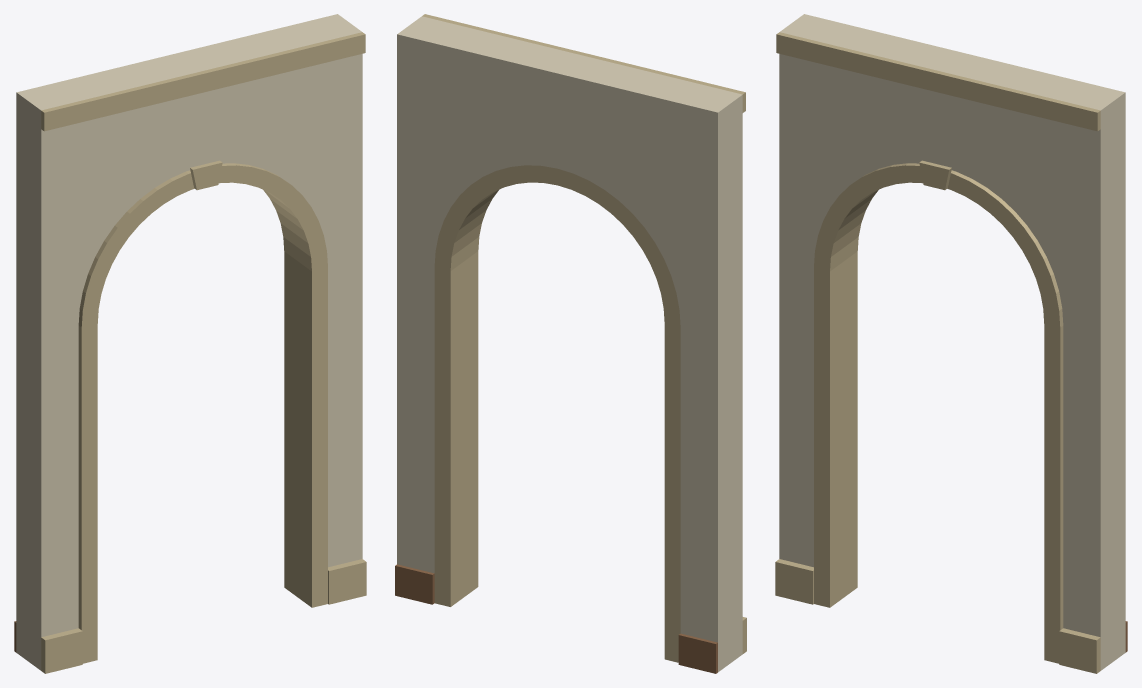
Rendered from rpg-mansion-arched-doorway-bay-01.glb.
The picture shows the model from 3 angles, left to right: view 1: azimuth 30°, elevation 25°; view 2: azimuth 150°, elevation 25°; view 3: azimuth 330°, elevation 25°; orthographic projection.
Visible parts, largest first — view 1: rpg-mansion-arched-doorway-bay-01; view 2: rpg-mansion-arched-doorway-bay-01; view 3: rpg-mansion-arched-doorway-bay-01.
Boxes of the visible parts, x1,y1,x2,y2 form: rpg-mansion-arched-doorway-bay-01: [14, 14, 366, 673]; rpg-mansion-arched-doorway-bay-01: [395, 14, 746, 673]; rpg-mansion-arched-doorway-bay-01: [775, 14, 1127, 673].
Bounding box in the file's own units: 1.8 × 3 × 0.317.
